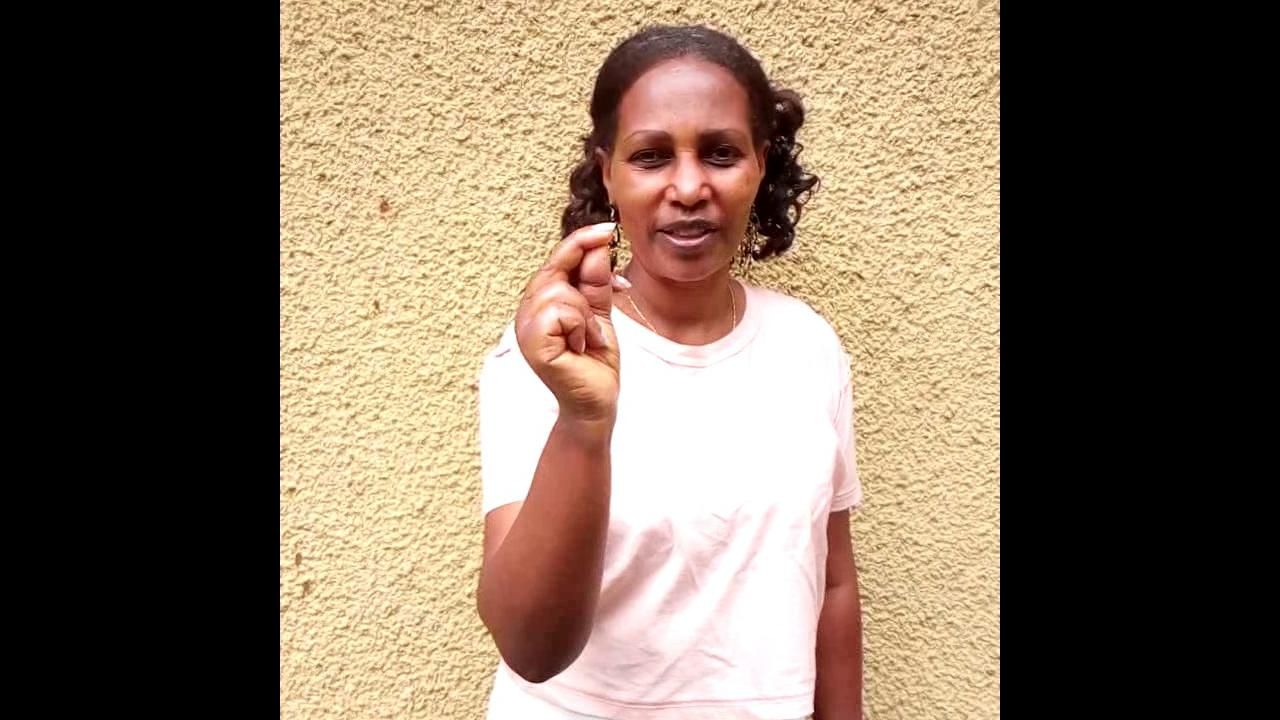CHE: (513, 221, 630, 533)
